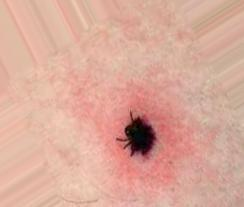Tick: (41, 22, 235, 207)
